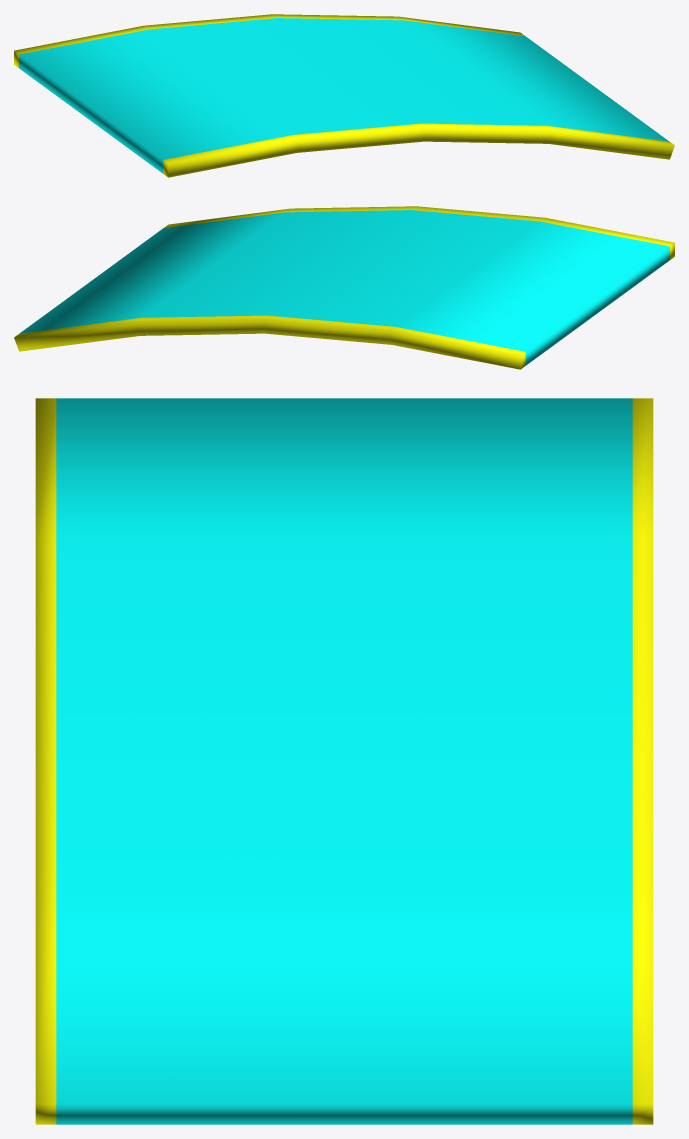
Rendered from TouchNote00.fbx.
The picture shows the model from 3 angles, top to bottom: view 1: azimuth 30°, elevation 25°; view 2: azimuth 150°, elevation 25°; view 3: azimuth 270°, elevation 25°; orthographic projection. The views are drawn at different scales.
Visible parts, largest first — view 1: TouchNote00; view 2: TouchNote00; view 3: TouchNote00.
Boxes of the visible parts, x1,y1,x2,y2 form: TouchNote00: [14, 14, 674, 177]; TouchNote00: [14, 206, 674, 369]; TouchNote00: [35, 398, 653, 1124].
Bounding box in the file's own units: 37.89 × 20 × 8.46.
